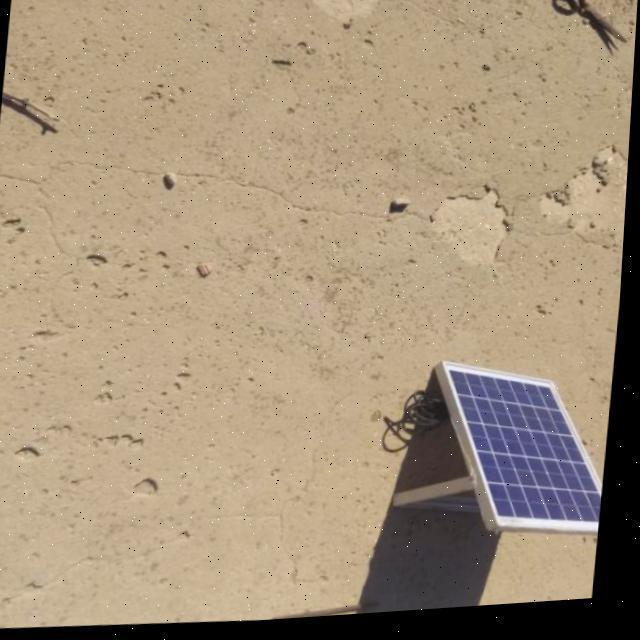Normal Solar Panel: (435, 358, 619, 550)
